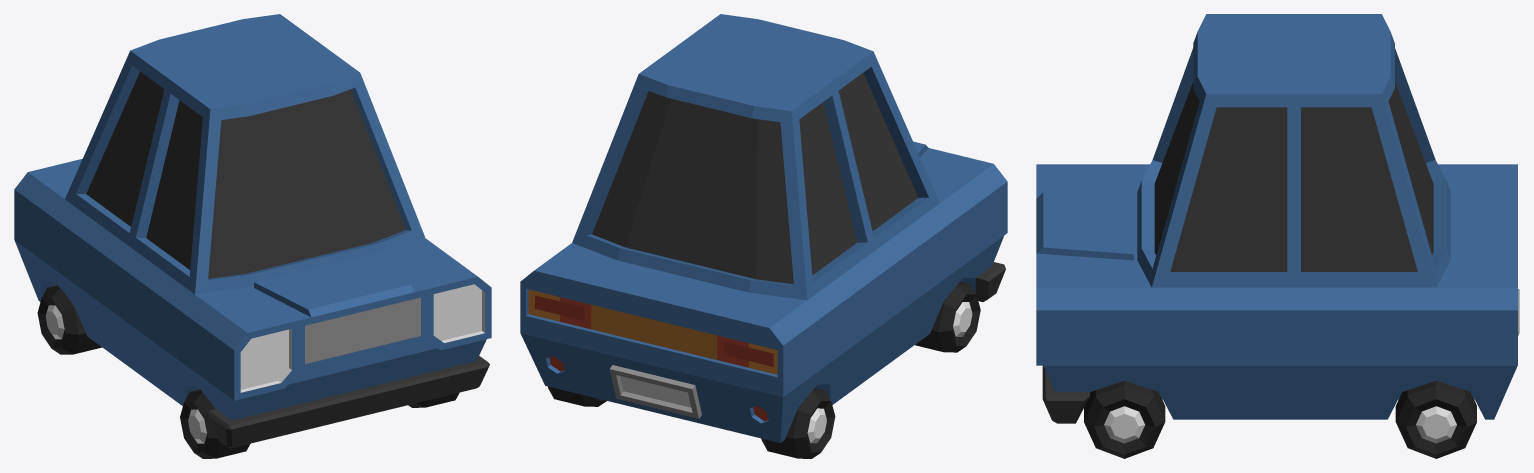
The model's file is Car01.fbx.
3 renders of one model, left to right at view 1: azimuth 30°, elevation 25°; view 2: azimuth 150°, elevation 25°; view 3: azimuth 270°, elevation 25°, orthographic. The views are drawn at different scales.
Parts seen in each view (by area): view 1: Car01; view 2: Car01; view 3: Car01.
Boxes of the visible parts, box(x1,y1,x2,y2) form: Car01: box(14, 14, 491, 458); Car01: box(520, 14, 1007, 458); Car01: box(1036, 14, 1519, 458).
Size of the model in its own units: 1.97 by 2.22 by 2.85.
